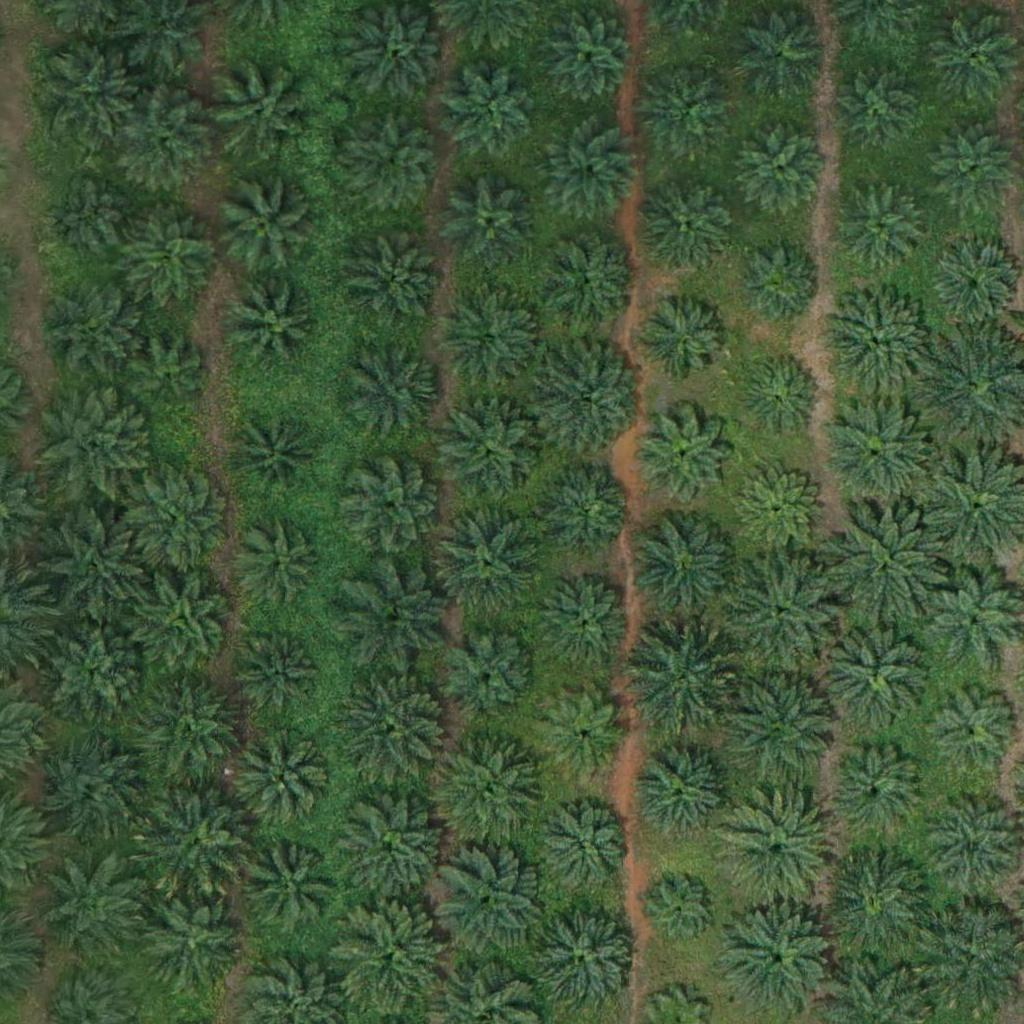Kelapa_Sawit: (433, 395, 546, 509), (533, 341, 646, 455), (630, 511, 743, 625), (622, 624, 735, 738), (38, 28, 151, 141), (39, 389, 152, 502), (339, 676, 452, 789), (334, 795, 447, 908), (628, 733, 741, 846), (720, 795, 833, 908), (819, 284, 932, 397), (820, 400, 933, 513), (722, 906, 835, 1019), (332, 899, 445, 1012), (728, 556, 840, 670), (725, 668, 837, 782), (822, 736, 934, 850), (819, 848, 931, 962), (36, 854, 148, 968), (535, 111, 647, 224), (39, 513, 151, 626), (36, 731, 148, 844), (140, 683, 252, 796), (339, 555, 451, 668), (432, 502, 544, 615), (429, 733, 541, 846), (829, 506, 941, 619), (823, 619, 935, 732), (531, 905, 643, 1018), (431, 846, 543, 959), (137, 787, 249, 900), (731, 3, 831, 104), (636, 60, 736, 161), (637, 173, 737, 274), (537, 10, 637, 111), (440, 61, 540, 162), (117, 201, 217, 302), (47, 162, 147, 263), (47, 285, 147, 386), (46, 626, 146, 727), (135, 471, 235, 572), (133, 568, 233, 669), (225, 410, 325, 511), (232, 728, 332, 829), (341, 451, 441, 552), (438, 622, 538, 723), (922, 568, 1022, 669), (238, 837, 338, 938), (344, 108, 444, 208), (344, 230, 444, 330), (215, 63, 315, 163), (219, 177, 319, 277), (115, 91, 215, 191), (349, 338, 449, 438), (441, 286, 541, 386), (535, 460, 635, 560), (535, 574, 635, 674), (632, 406, 732, 506), (141, 896, 241, 996), (928, 124, 1016, 212), (933, 241, 1021, 329), (830, 66, 918, 154), (540, 806, 628, 894), (639, 297, 727, 385), (737, 351, 825, 439), (734, 465, 822, 553), (837, 183, 924, 272), (737, 123, 824, 212), (235, 631, 322, 720), (445, 181, 532, 269), (545, 236, 632, 324), (238, 518, 325, 606), (540, 690, 627, 778), (735, 239, 822, 327), (931, 687, 1018, 775), (239, 291, 314, 367), (134, 336, 209, 411), (651, 879, 714, 942)
